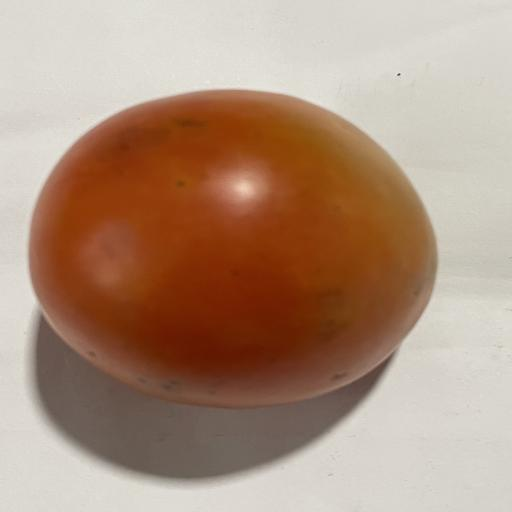ripe: (30, 90, 437, 408)
